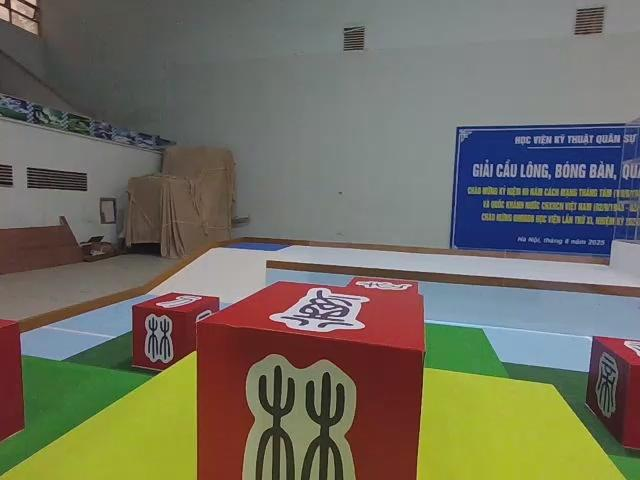R2 Fake: (198, 279, 426, 480), (131, 293, 222, 373), (584, 335, 640, 454)
